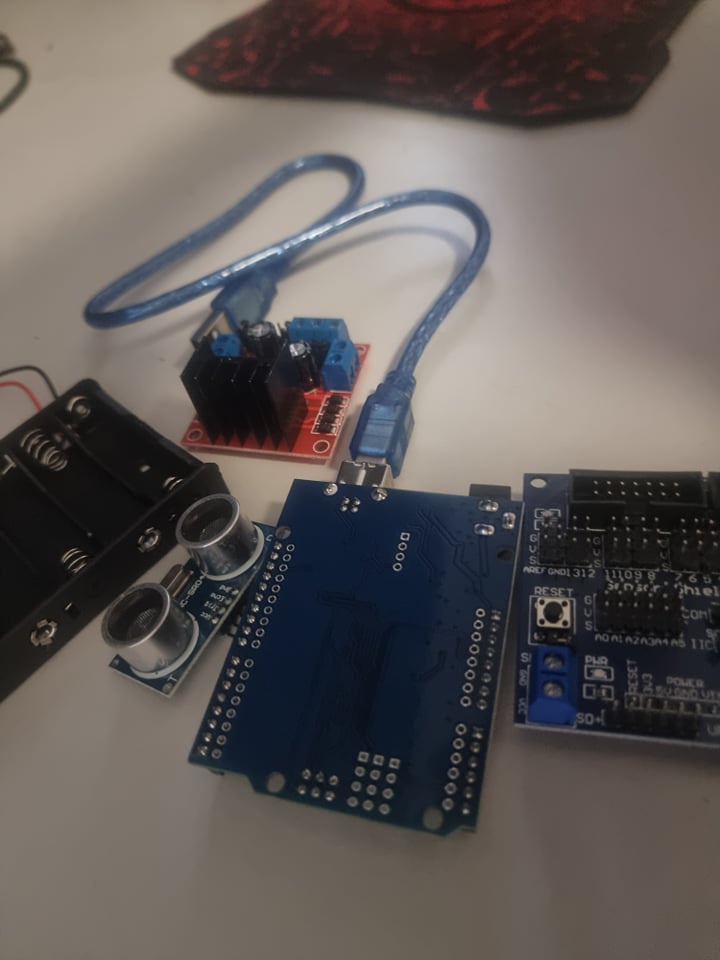5V EXPANSION: (512, 465, 720, 774)
BATTERY BOX: (3, 380, 208, 631)
MOTOR: (178, 306, 373, 462)
SENSOR: (96, 496, 278, 690)
